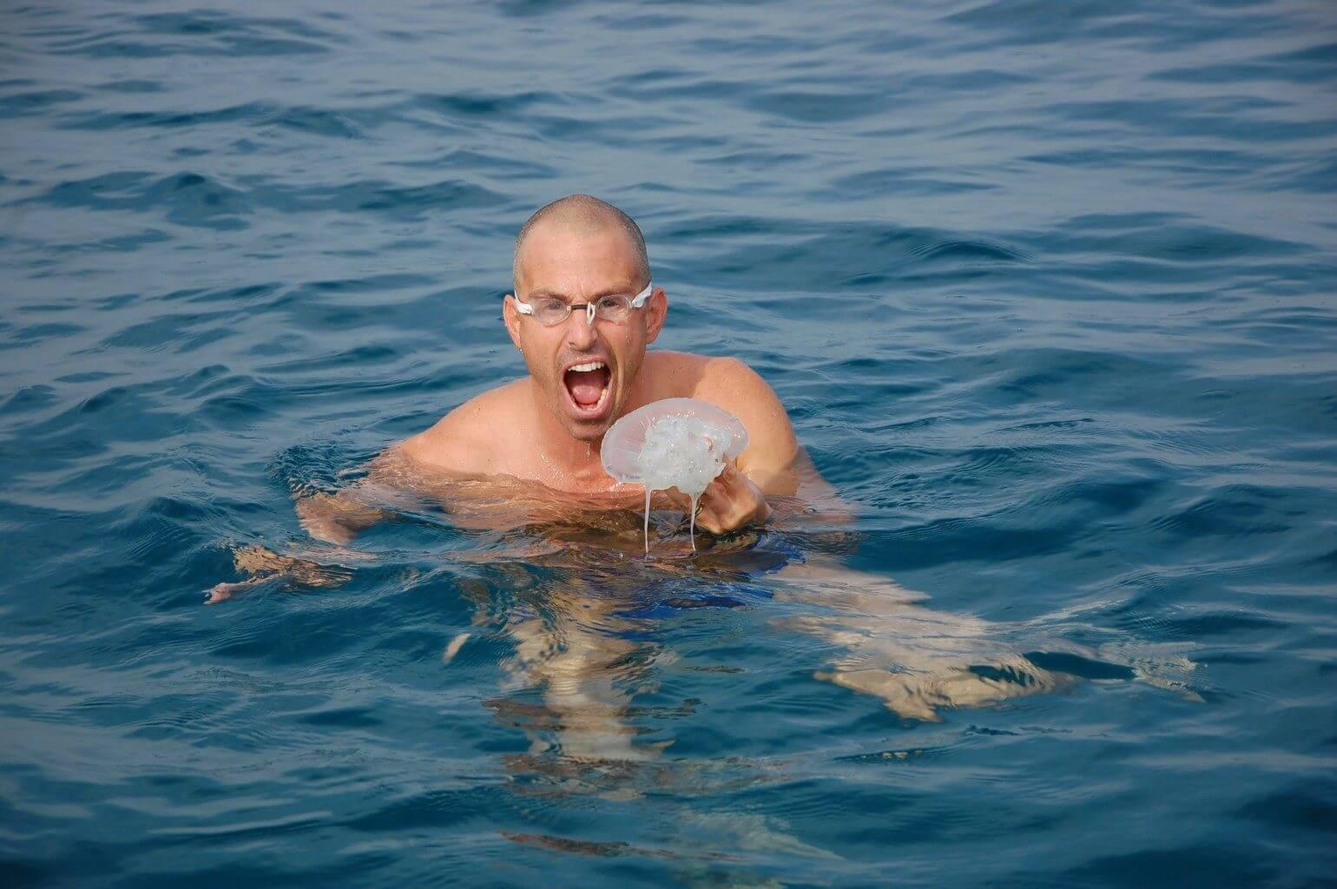human: (256, 189, 1130, 721)
